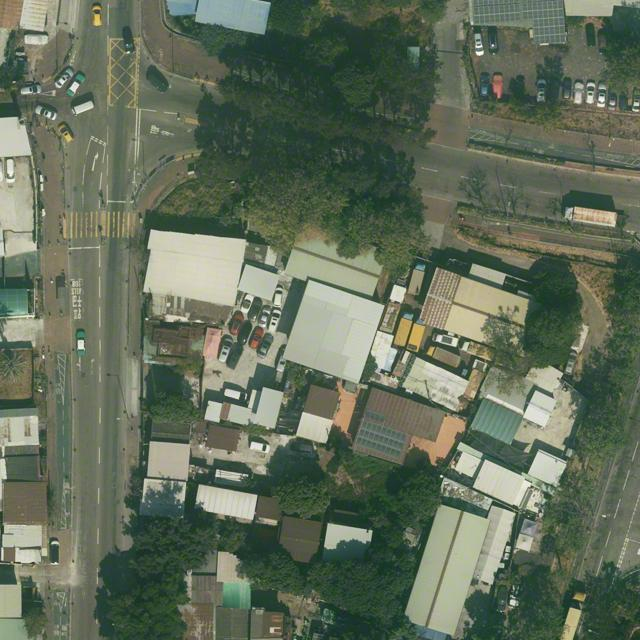panel: (472, 0, 567, 45), (355, 411, 408, 459)
